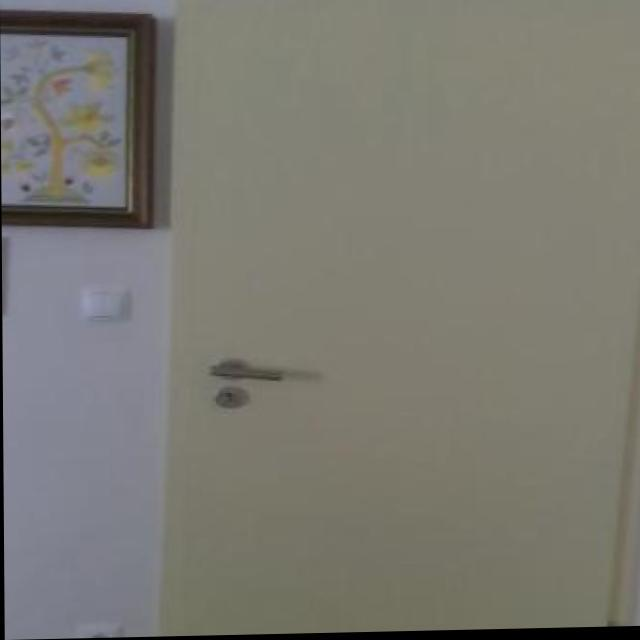door_handle: (196, 355, 296, 389)
